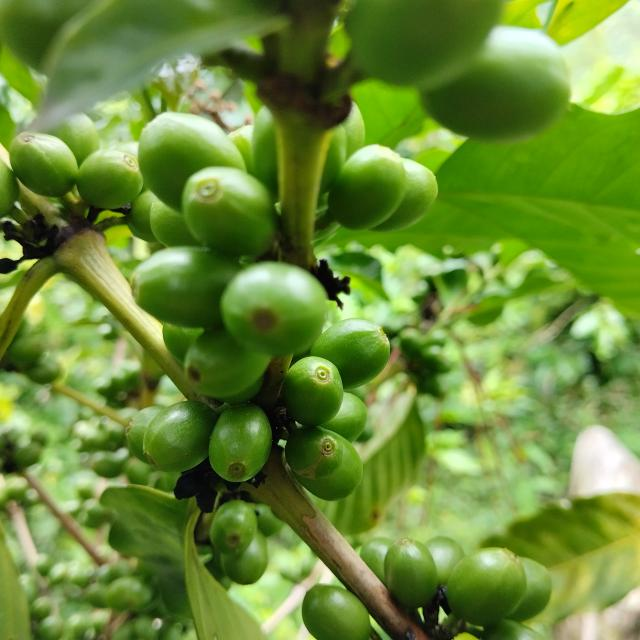green: (220, 261, 328, 356), (132, 246, 241, 328), (182, 166, 276, 256), (448, 548, 527, 627), (310, 319, 390, 389), (142, 401, 218, 472), (208, 404, 272, 483), (281, 356, 344, 426), (295, 439, 363, 502), (302, 585, 371, 640), (385, 539, 438, 610), (285, 427, 343, 480), (209, 501, 258, 555), (320, 393, 368, 443)
